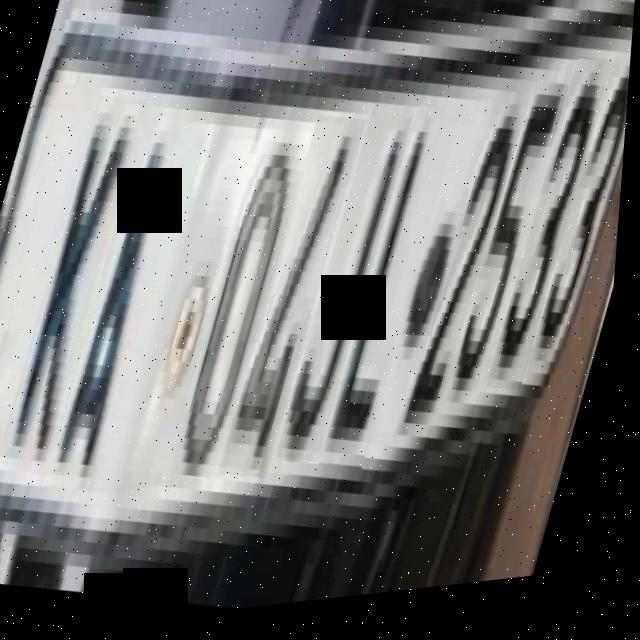0: (174, 138, 314, 480)
3: (495, 75, 614, 398), (534, 79, 632, 380)
4: (226, 129, 366, 481)
5: (448, 80, 574, 430)
A: (54, 119, 191, 495)
J: (285, 118, 417, 464)
K: (9, 103, 147, 469)
L: (327, 114, 458, 478)
